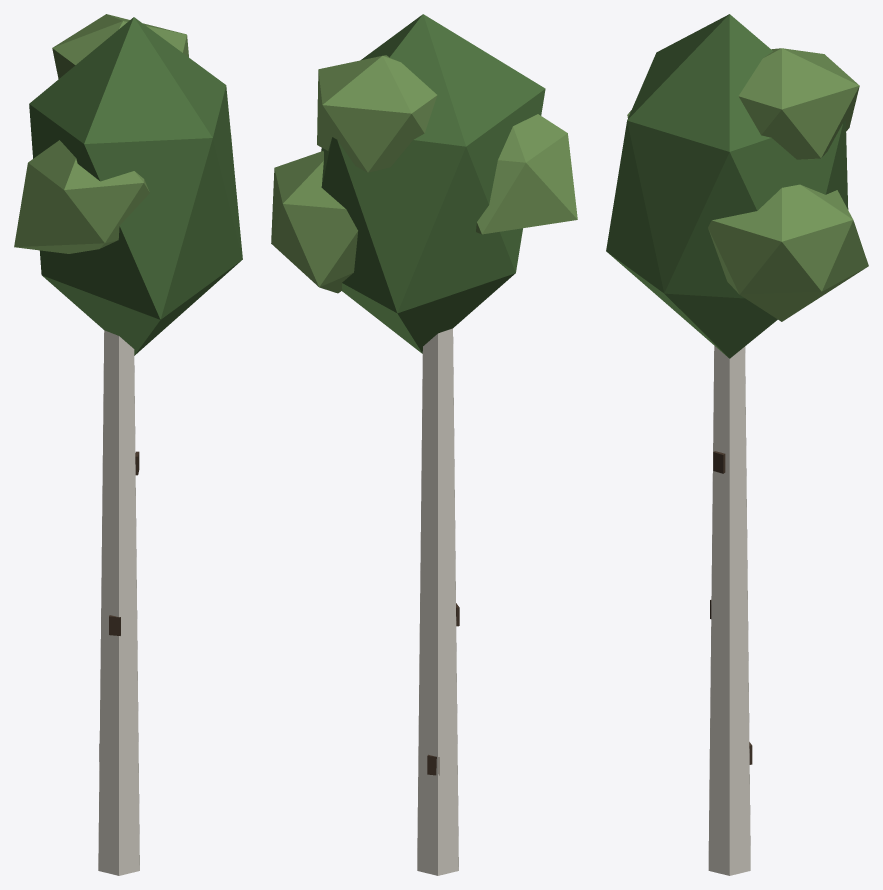
Rendered from tree_birch_lod1.glb.
3 renders of one model, left to right at view 1: azimuth 30°, elevation 25°; view 2: azimuth 150°, elevation 25°; view 3: azimuth 270°, elevation 25°, orthographic.
Parts seen in each view (by area): view 1: tree_birch_lod1; view 2: tree_birch_lod1; view 3: tree_birch_lod1.
Boxes of the visible parts, bbox=[...] form: tree_birch_lod1: bbox=[14, 14, 242, 875]; tree_birch_lod1: bbox=[271, 14, 577, 875]; tree_birch_lod1: bbox=[606, 14, 868, 875].
Size of what is drawn, in the model's own units: 1.75 by 5.45 by 1.51.
1 material, 1 textured.
